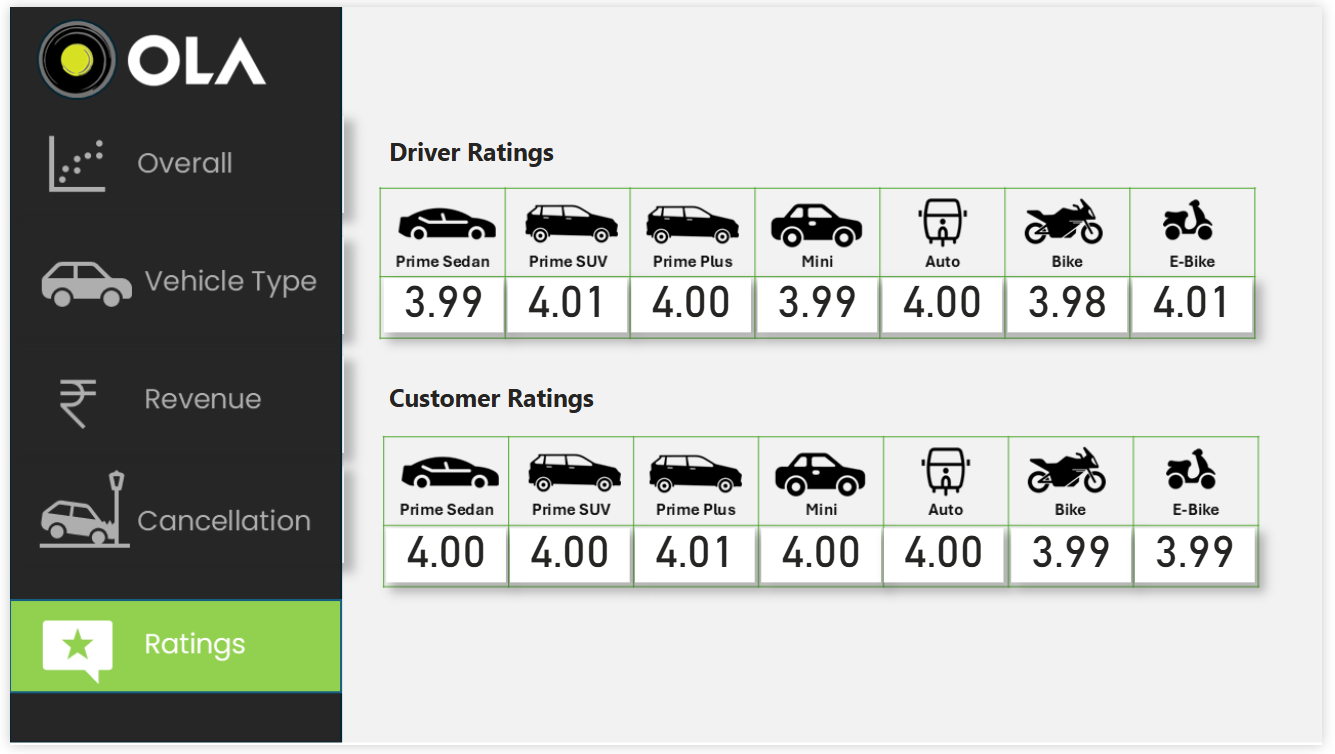

The page's visual inventory and layout, read from the dashboard file:
{"tool":"powerbi","page":{"name":"Ratings","canvas":[1280,720],"ordinal":4},"visuals":[{"type":"actionButton","box":[0,223.8,325.4,94.3],"z":0},{"type":"actionButton","box":[0,339.9,325.4,94.3],"z":1000},{"type":"actionButton","box":[0,447.7,325.4,94.3],"z":2000},{"type":"actionButton","box":[0,105.7,325.4,94.3],"z":3000},{"type":"card","fields":{"Values":["Avg(Ola_bookings.Driver_Ratings)"]},"box":[364.9,265.1,117,53],"z":4000},{"type":"card","fields":{"Values":["Avg(Ola_bookings.Driver_Ratings)"]},"box":[485,265.1,117,53],"z":5000},{"type":"card","fields":{"Values":["Avg(Ola_bookings.Driver_Ratings)"]},"box":[606.6,265.1,117,53],"z":6000},{"type":"card","fields":{"Values":["Avg(Ola_bookings.Driver_Ratings)"]},"box":[729.8,265.1,117,53],"z":7000},{"type":"card","fields":{"Values":["Avg(Ola_bookings.Driver_Ratings)"]},"box":[851.5,265.1,117,53],"z":8000},{"type":"card","fields":{"Values":["Avg(Ola_bookings.Driver_Ratings)"]},"box":[973.1,265.1,117,53],"z":9000},{"type":"card","fields":{"Values":["Avg(Ola_bookings.Driver_Ratings)"]},"box":[1094.7,265.1,117,53],"z":10000},{"type":"textbox","box":[364.9,360.2,224.6,53],"z":11000},{"type":"textbox","box":[364.9,120.1,179.3,56.1],"z":11001},{"type":"card","fields":{"Values":["Avg(Ola_bookings.Customer_Rating)"]},"box":[366.5,508.4,117,53],"z":11002},{"type":"card","fields":{"Values":["Avg(Ola_bookings.Customer_Rating)"]},"box":[488.1,508.4,117,53],"z":11003},{"type":"card","fields":{"Values":["Avg(Ola_bookings.Customer_Rating)"]},"box":[609.7,508.4,117,53],"z":11004},{"type":"card","fields":{"Values":["Avg(Ola_bookings.Customer_Rating)"]},"box":[732.9,508.4,117,53],"z":11005},{"type":"card","fields":{"Values":["Avg(Ola_bookings.Customer_Rating)"]},"box":[853,508.4,117,53],"z":11006},{"type":"card","fields":{"Values":["Avg(Ola_bookings.Customer_Rating)"]},"box":[976.2,508.4,117,53],"z":11007},{"type":"card","fields":{"Values":["Avg(Ola_bookings.Customer_Rating)"]},"box":[1097.9,508.4,117,53],"z":11008}]}

Visuals, with their boxes in screenshot pixels (x1, y1, x2, y2):
actionButton: (left=3, top=237, right=338, bottom=334)
actionButton: (left=3, top=357, right=338, bottom=454)
actionButton: (left=3, top=467, right=338, bottom=564)
actionButton: (left=3, top=116, right=338, bottom=213)
card - Avg(Ola_bookings.Driver_Ratings): (left=379, top=280, right=499, bottom=334)
card - Avg(Ola_bookings.Driver_Ratings): (left=502, top=280, right=623, bottom=334)
card - Avg(Ola_bookings.Driver_Ratings): (left=627, top=280, right=748, bottom=334)
card - Avg(Ola_bookings.Driver_Ratings): (left=754, top=280, right=874, bottom=334)
card - Avg(Ola_bookings.Driver_Ratings): (left=879, top=280, right=1000, bottom=334)
card - Avg(Ola_bookings.Driver_Ratings): (left=1004, top=280, right=1125, bottom=334)
card - Avg(Ola_bookings.Driver_Ratings): (left=1129, top=280, right=1250, bottom=334)
textbox: (left=379, top=377, right=610, bottom=432)
textbox: (left=379, top=130, right=563, bottom=188)
card - Avg(Ola_bookings.Customer_Rating): (left=380, top=530, right=501, bottom=584)
card - Avg(Ola_bookings.Customer_Rating): (left=506, top=530, right=626, bottom=584)
card - Avg(Ola_bookings.Customer_Rating): (left=631, top=530, right=751, bottom=584)
card - Avg(Ola_bookings.Customer_Rating): (left=757, top=530, right=878, bottom=584)
card - Avg(Ola_bookings.Customer_Rating): (left=881, top=530, right=1001, bottom=584)
card - Avg(Ola_bookings.Customer_Rating): (left=1008, top=530, right=1128, bottom=584)
card - Avg(Ola_bookings.Customer_Rating): (left=1133, top=530, right=1253, bottom=584)
